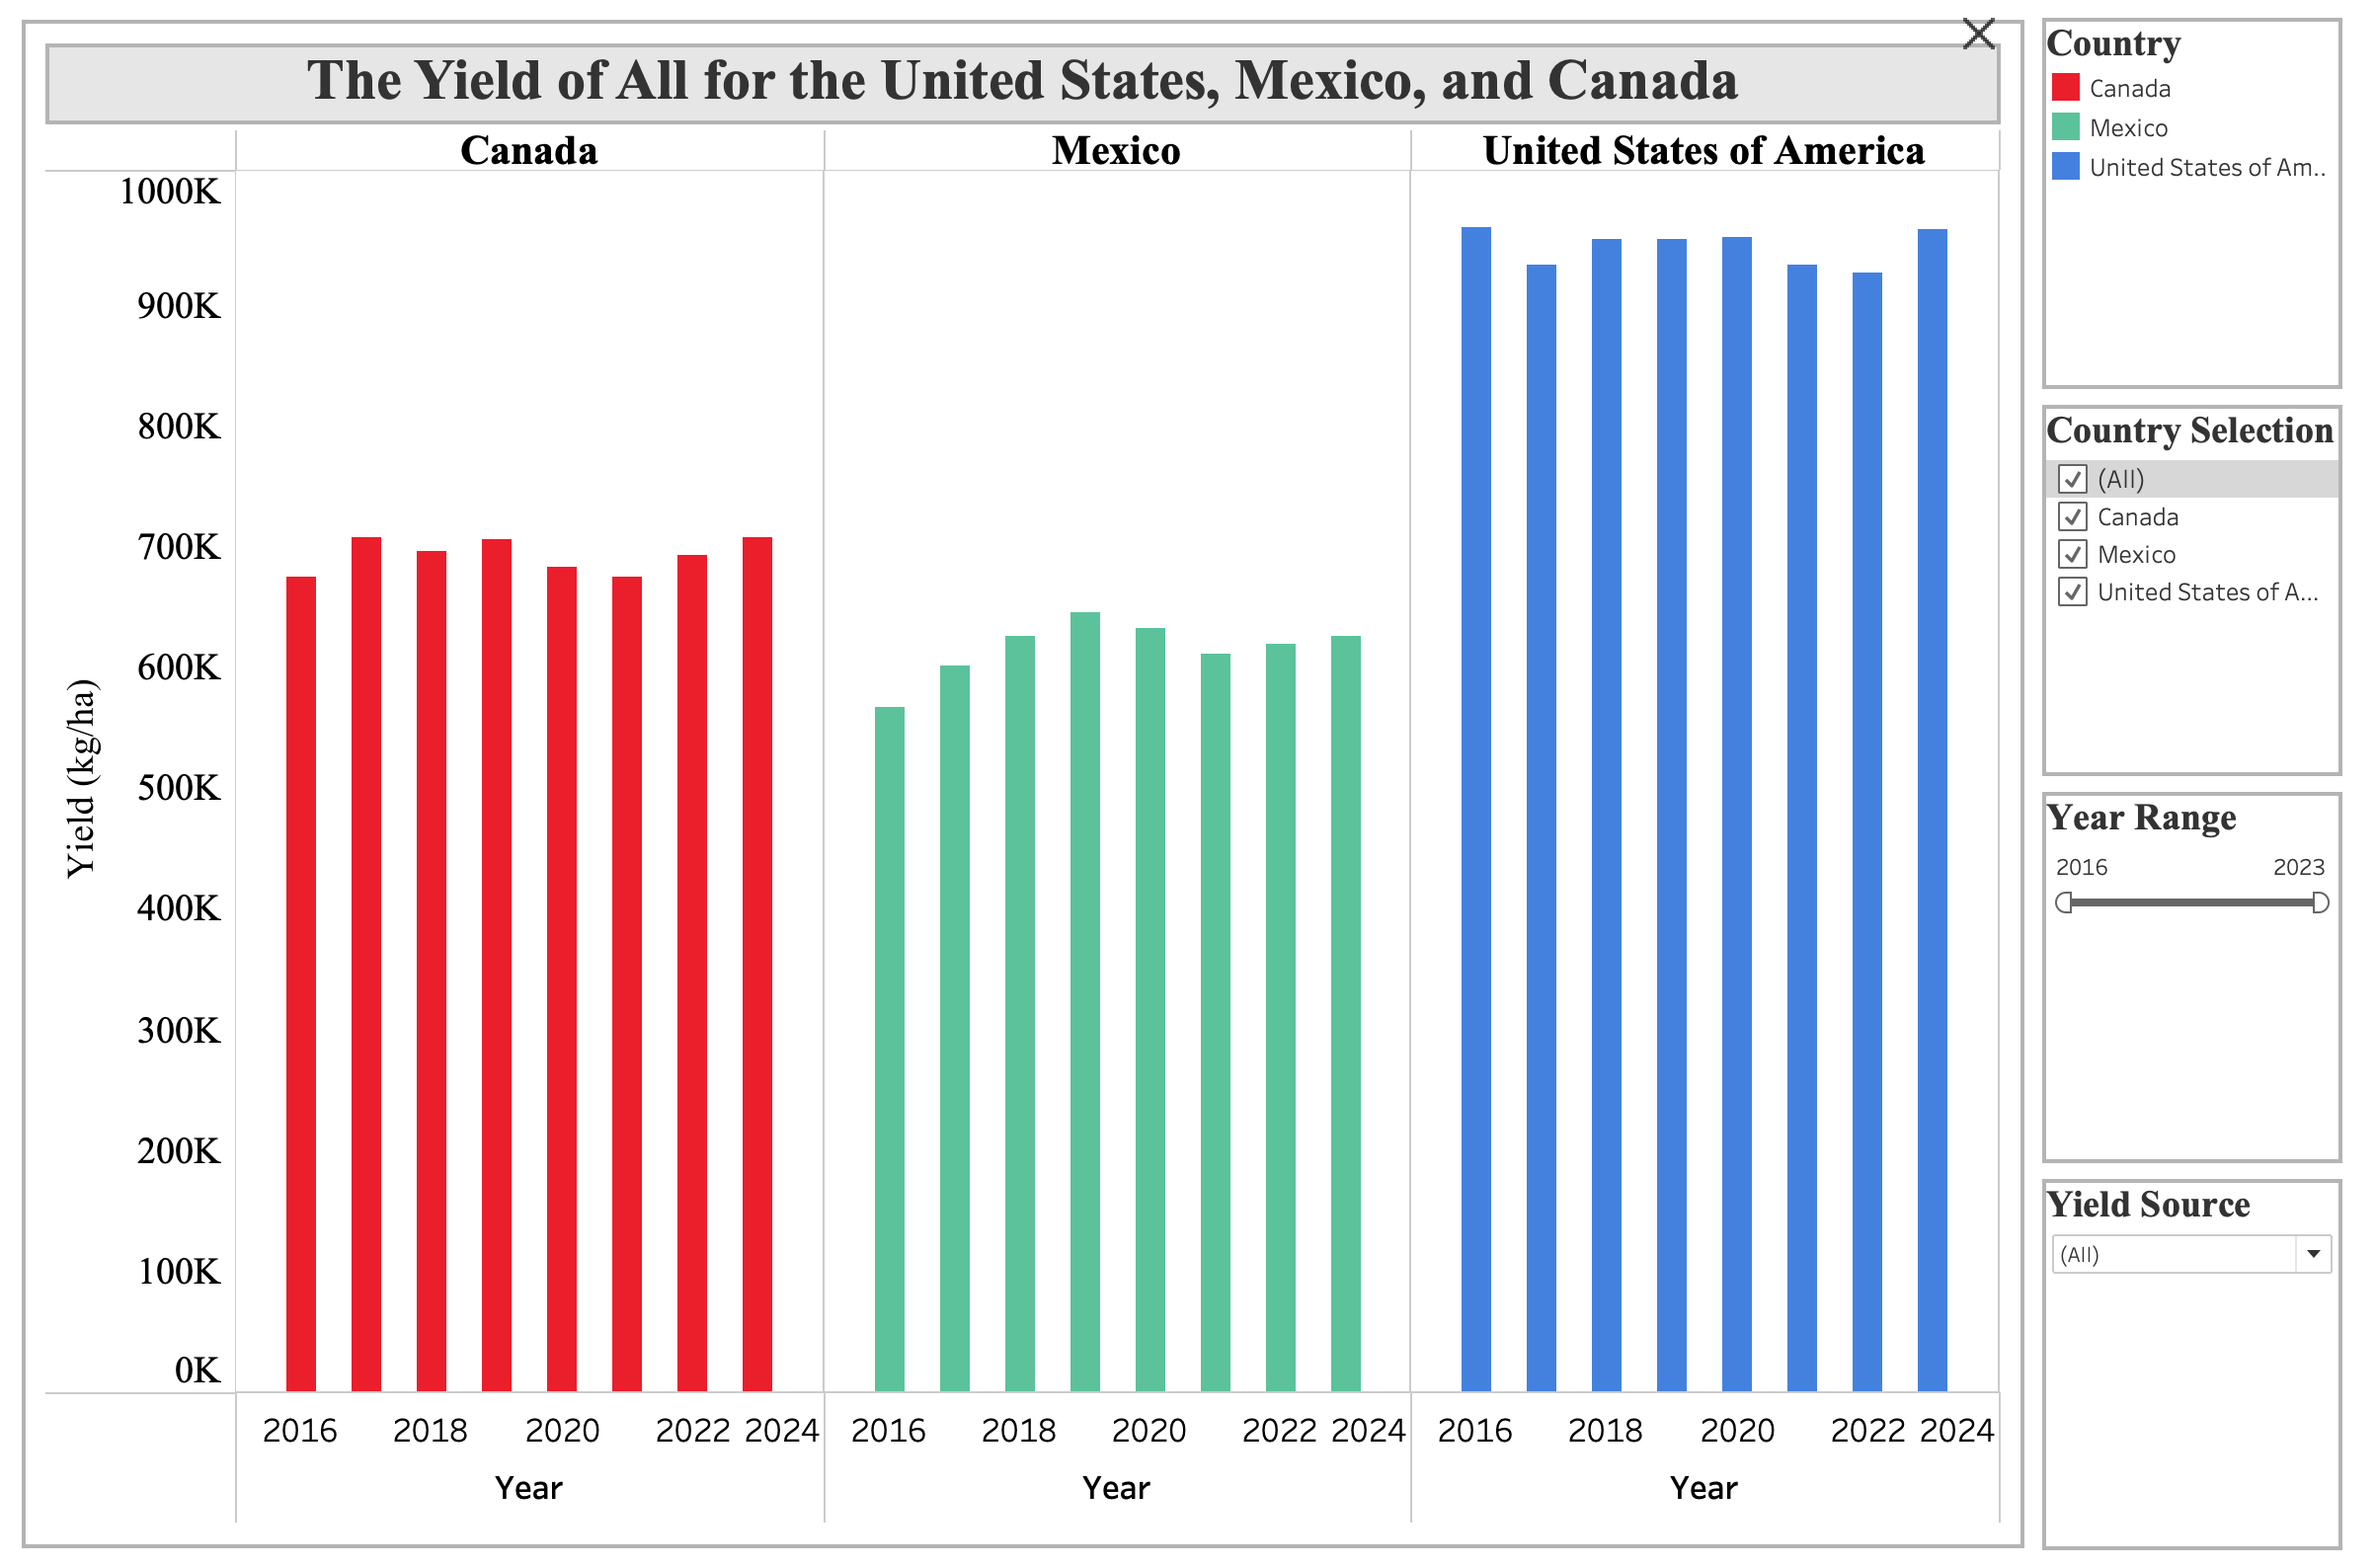

This screenshot's page, from the dashboard's own definition file:
{"tool":"tableau","page":{"name":"Dashboard 1","canvas":[1200,800],"ordinal":0},"visuals":[{"type":"worksheet","title":"yield","mark":"Bar","rows":["Value"],"cols":["Area","Year"],"box":[8,8,1024,784]},{"type":"filter","title":"yield","param":"[federated.0fg16zw1x0l6lv1b036w90icsjen].[none:area:nk]","box":[1032,8,160,108]},{"type":"filter","title":"yield","param":"[federated.0vianxe0iyll5417yi61e03wm1ru].[none:Item:nk]","box":[1032,116,160,590]},{"type":"legend","title":"yield","param":"[federated.0z5opef0cm133o11jrrv90n5jtt2].[none:Country:nk]","box":[1032,706,160,86]}]}

Visuals, with their boxes in screenshot pixels (x1, y1, x2, y2), scaled from the page's 1200x800 canvas onto the 2376x1568 screenshot:
"yield" worksheet (Bar marks): Rect(16, 16, 2043, 1552)
"yield" filter: Rect(2043, 16, 2360, 227)
"yield" filter: Rect(2043, 227, 2360, 1383)
"yield" legend: Rect(2043, 1383, 2360, 1552)
